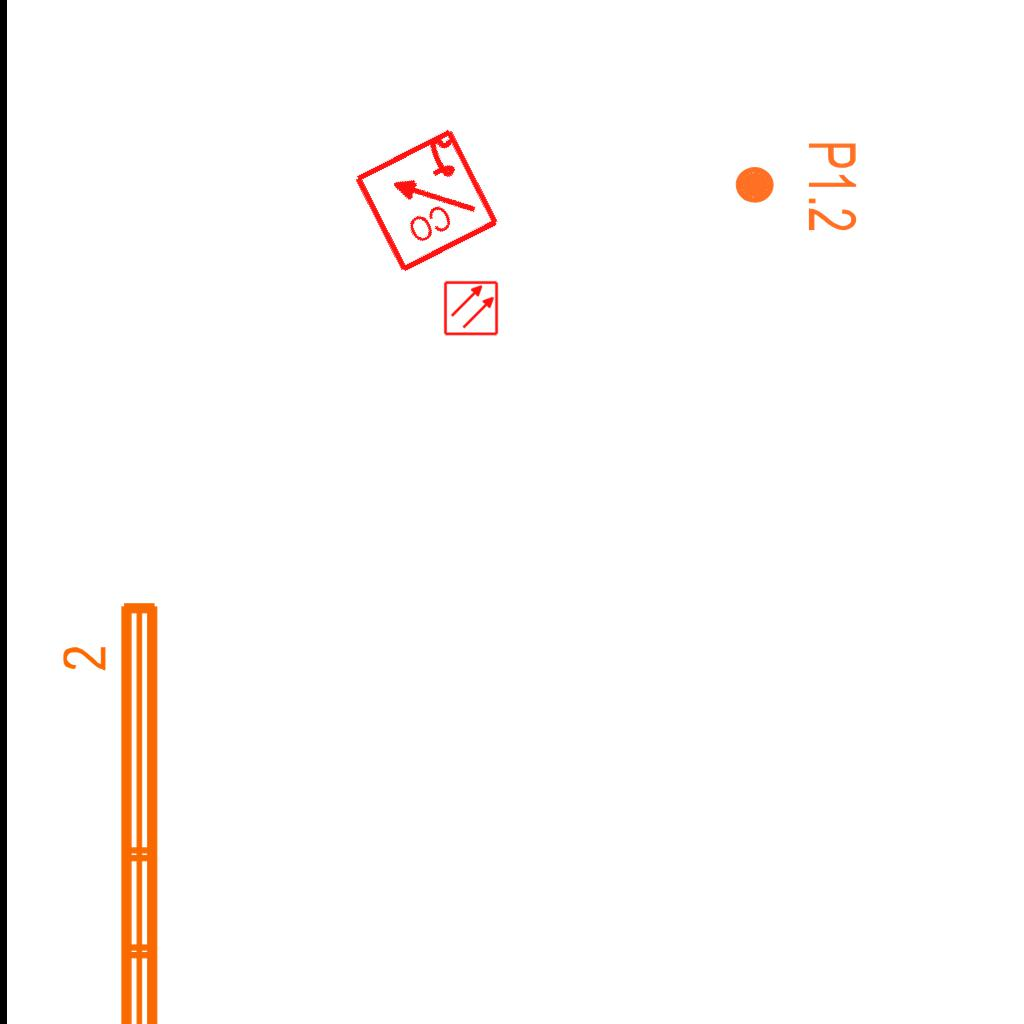Ambulanz_Pendelleuchte_LED: (58, 594, 170, 1024)
Downlight_LED_Einbauleuchten_Flur: (732, 140, 860, 233)
RMO_Rauchmelder_optischer: (443, 280, 499, 336)
ROA_Rauchmelder_optisch_mit_Signalgeber_(Sockelsirene): (349, 123, 502, 276)
